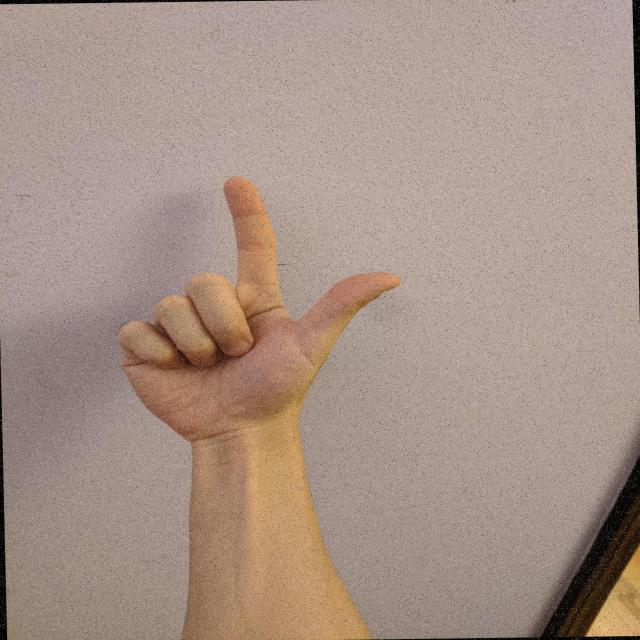L: (105, 169, 412, 452)
